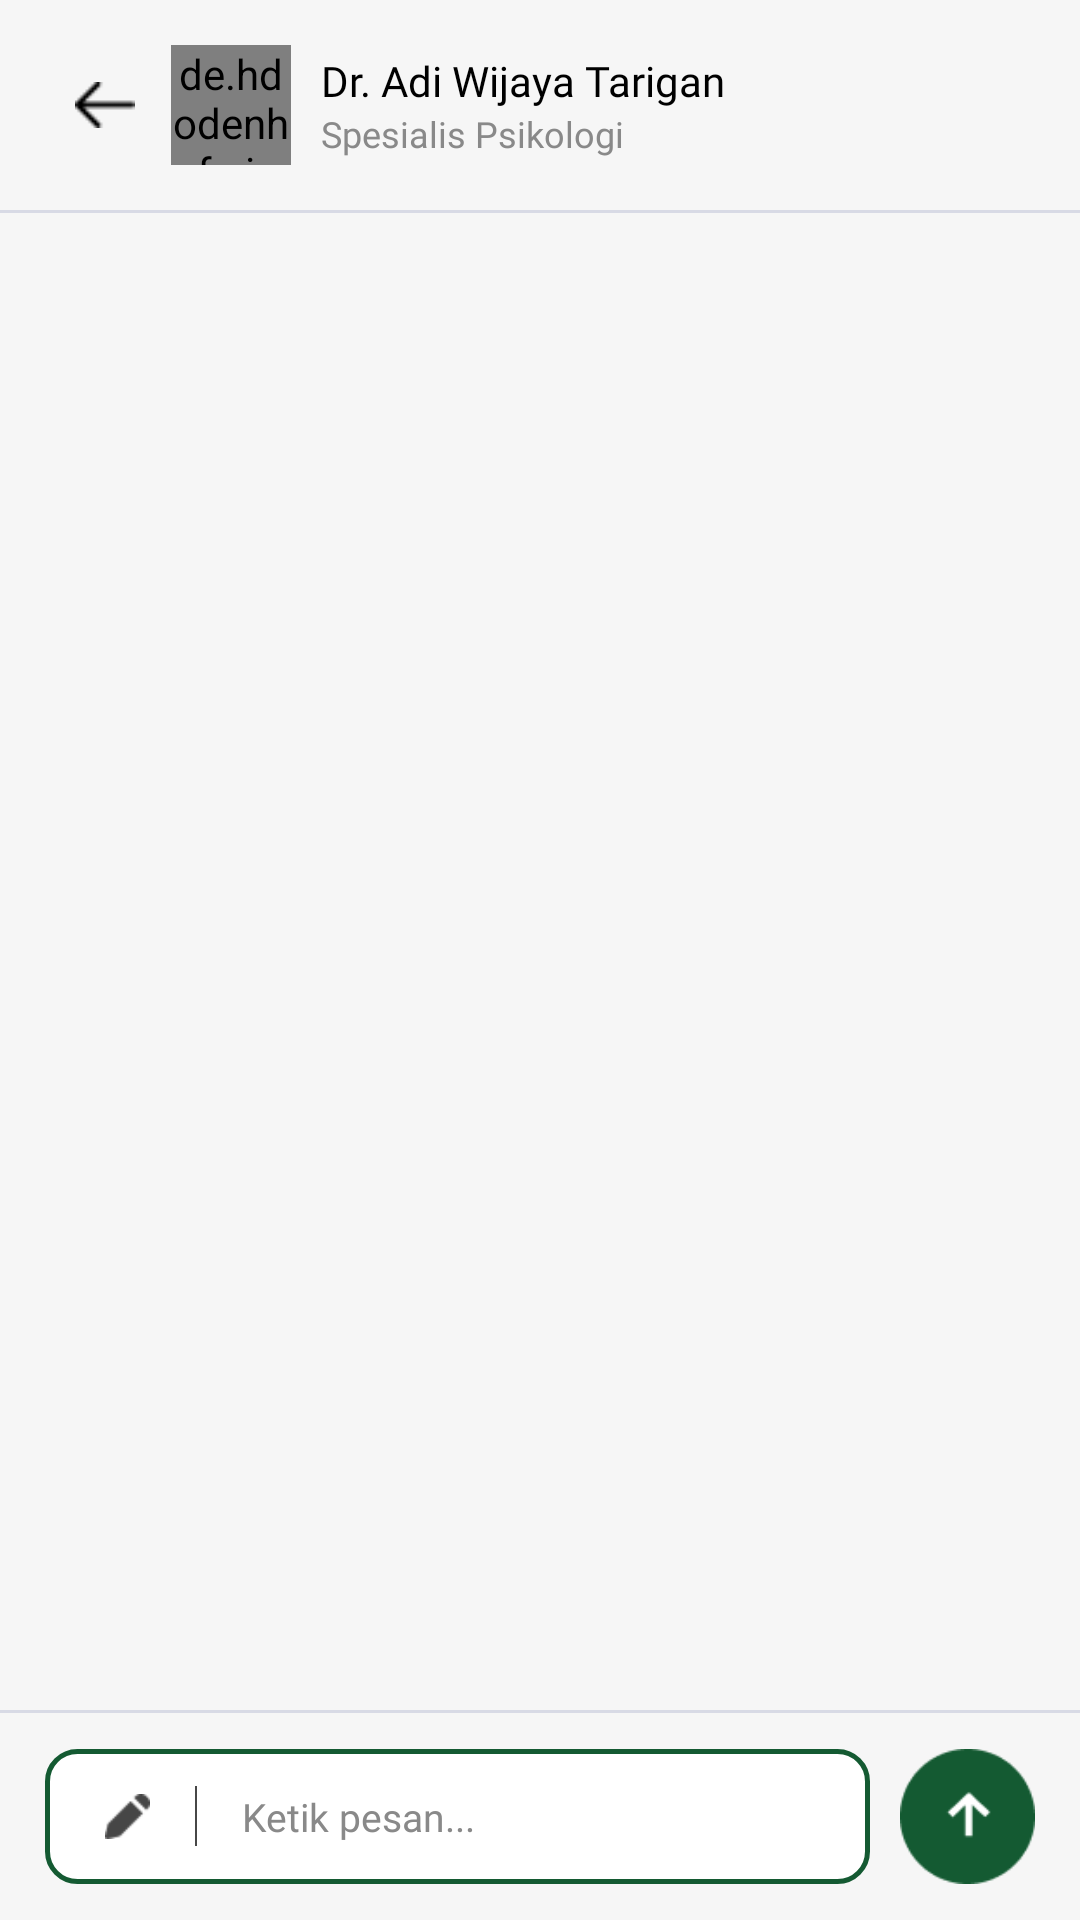

Named icons in this screenshot (1080w x 1920h) and their bounding boxes, [x1=x1, y1=y1, x2=x2, y2=y2]:
arrow left: [x1=75, y1=82, x2=135, y2=128]
pencil: [x1=105, y1=1794, x2=150, y2=1839]
send: [x1=900, y1=1749, x2=1035, y2=1884]
